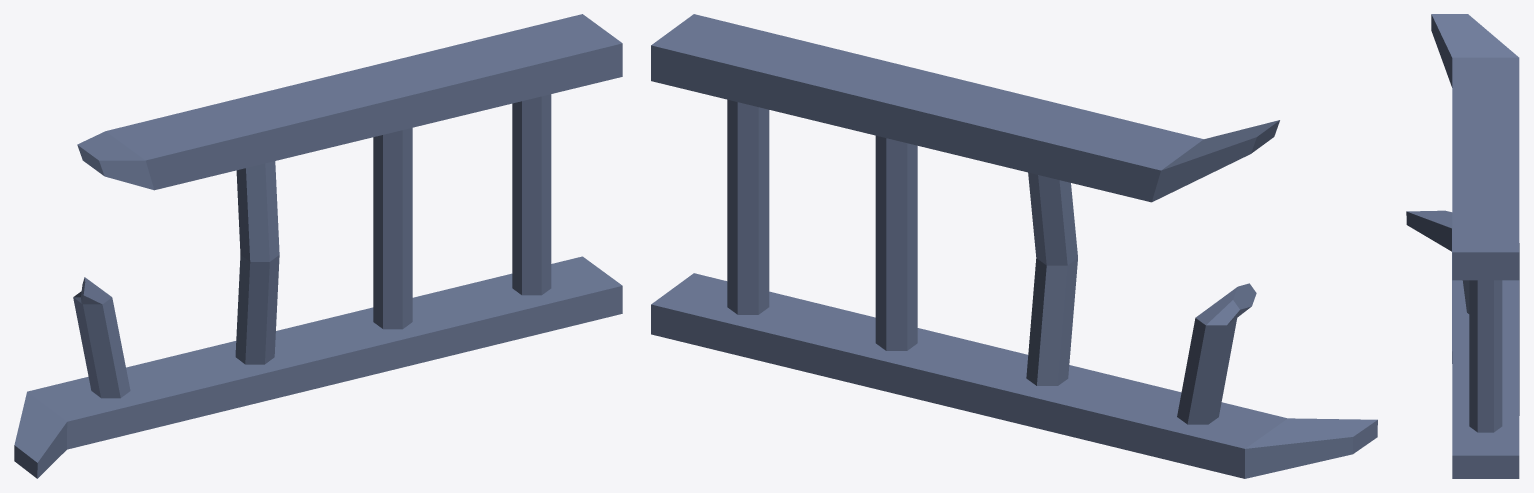
File: damaged-railing-right.glb
3 views of the same model, side by side, from view 1: azimuth 30°, elevation 25°; view 2: azimuth 150°, elevation 25°; view 3: azimuth 270°, elevation 25° (orthographic). The views are drawn at different scales.
Visible parts, largest first — view 1: damaged railing right; view 2: damaged railing right; view 3: damaged railing right.
Boxes of the visible parts, x1,y1,x2,y2 form: damaged railing right: [14, 14, 622, 478]; damaged railing right: [651, 14, 1377, 478]; damaged railing right: [1406, 14, 1519, 478].
Bounding box in the file's own units: 2 × 0.9156 × 0.3818.
